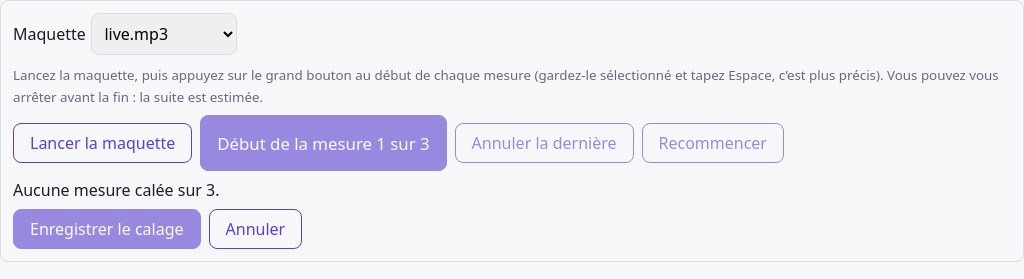
Test: TabSyncRecorder (#29) › propose la maquette du calage actuel, et part du début de la maquette
Click the button with test id "sync-play": (103, 143) [13,123,192,163]
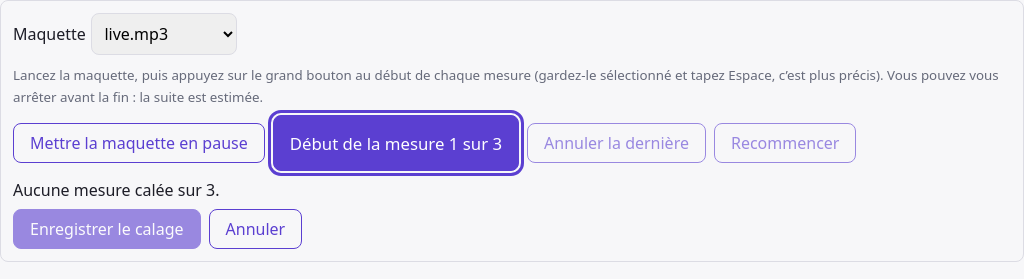
Check: the button with test id "sync-play" reads "Mettre la maquette en pause", box [13,123,265,163]
